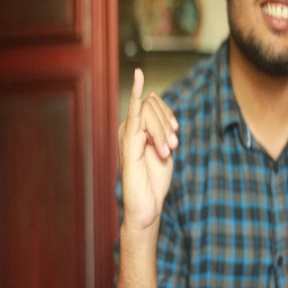I: (115, 65, 184, 227)
